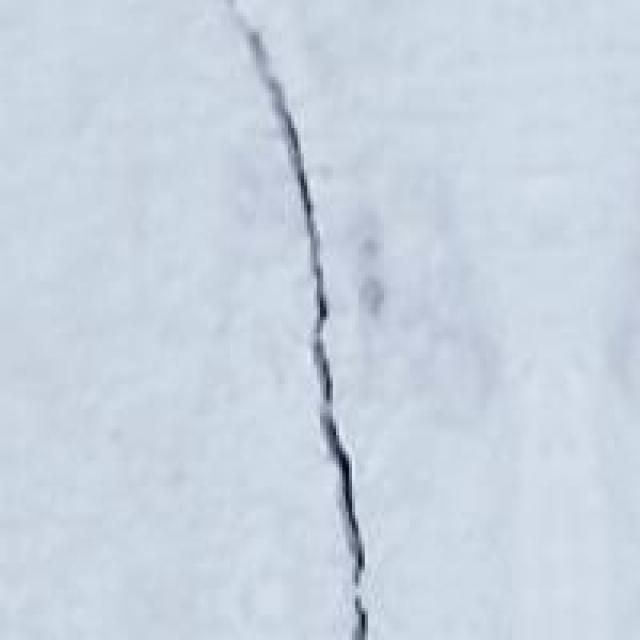crack: (202, 13, 448, 640)
